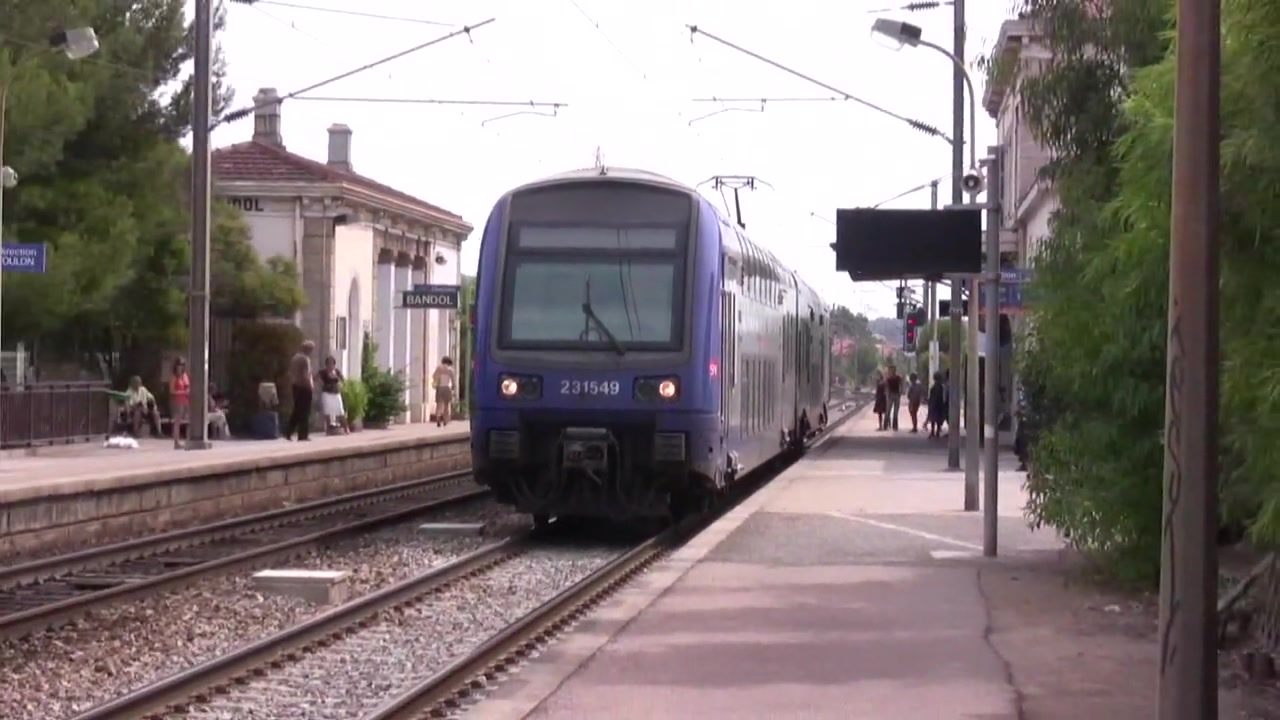train: (464, 175, 840, 522)
